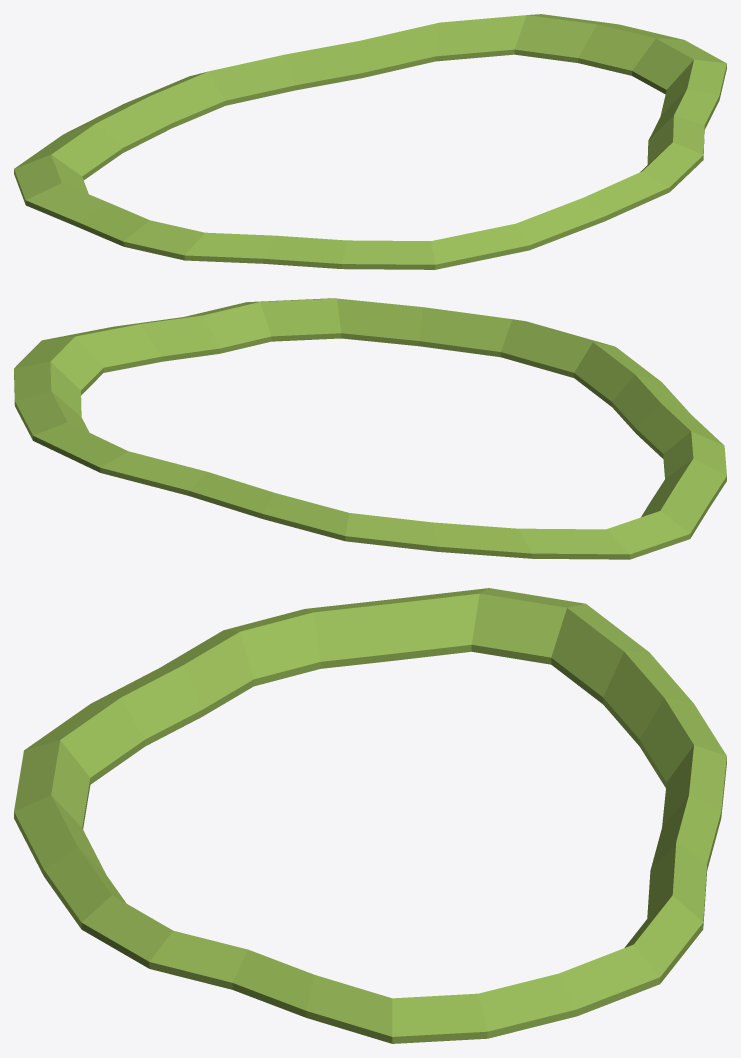
3 renders of one model, top to bottom at view 1: azimuth 30°, elevation 25°; view 2: azimuth 150°, elevation 25°; view 3: azimuth 270°, elevation 25°, orthographic. The views are drawn at different scales.
Visible parts, largest first — view 1: 水潭_折纸岸环.001; view 2: 水潭_折纸岸环.001; view 3: 水潭_折纸岸环.001.
Boxes of the visible parts, x1,y1,x2,y2 form: 水潭_折纸岸环.001: (14,14,726,269); 水潭_折纸岸环.001: (14,298,726,559); 水潭_折纸岸环.001: (14,588,726,1043).
Bounding box in the file's own units: 2.05 × 0.085 × 1.38.
